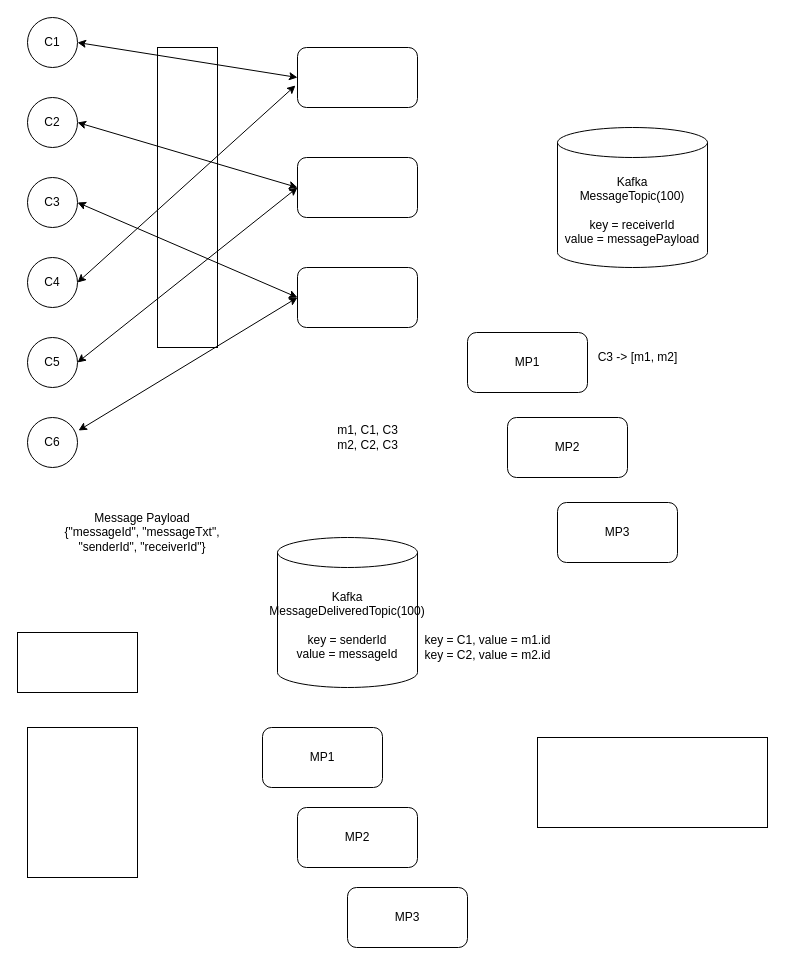
This 785x965 diagram has some shape labels left out. The shapes that lost their labels are listed below. From the top down, each one's centre as x and y in pixels, then its label:
At (357,77): "S1".
At (187,197): "Load Balancer".
At (357,187): "S2".
At (357,297): "S3".
At (77,662): "Client-Server-Connection-Info MS".
At (82,802): "REDIS C1: [S1, t1] C2 : [S2, t2] C3.server -> S3 C4: S1 C5: S2".
At (652,782): "senderId, receiverId, messageTxt, messageId, timestamp".
